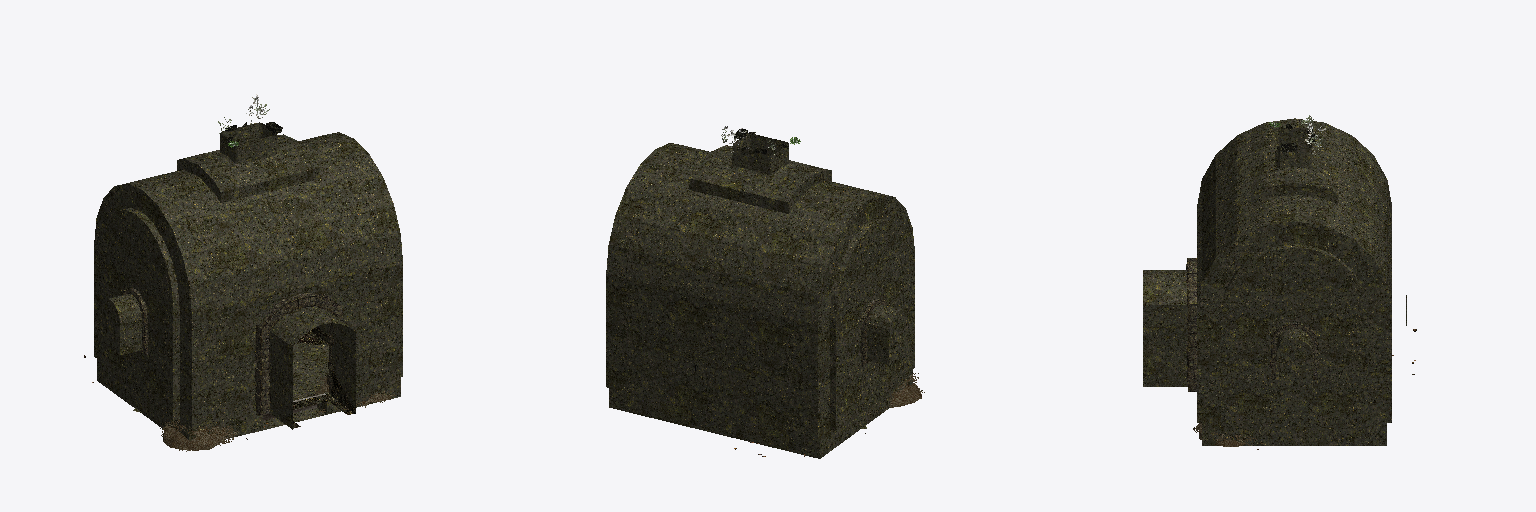
The picture shows the model from 3 angles: view 1: azimuth 30°, elevation 25°; view 2: azimuth 150°, elevation 25°; view 3: azimuth 270°, elevation 25°; orthographic projection.
Visible parts, largest first — view 1: mesh9, mesh5, mesh7, mesh11, mesh16, mesh19; view 2: mesh9, mesh5, mesh18, mesh16; view 3: mesh9, mesh5, mesh7.
Boxes of the visible parts, x1,y1,x2,y2 form: mesh9: [100, 132, 402, 429]; mesh5: [94, 122, 400, 440]; mesh7: [122, 288, 342, 414]; mesh11: [263, 342, 328, 429]; mesh16: [160, 376, 395, 451]; mesh19: [293, 323, 354, 428]; mesh9: [606, 143, 908, 438]; mesh5: [609, 133, 914, 458]; mesh18: [630, 338, 866, 446]; mesh16: [880, 373, 924, 413]; mesh9: [1143, 118, 1391, 426]; mesh5: [1192, 128, 1391, 445]; mesh7: [1186, 258, 1318, 391].
Size of the model in its own units: 6.53 by 6.37 by 5.6.
Materials: 21 (17 with a texture image).